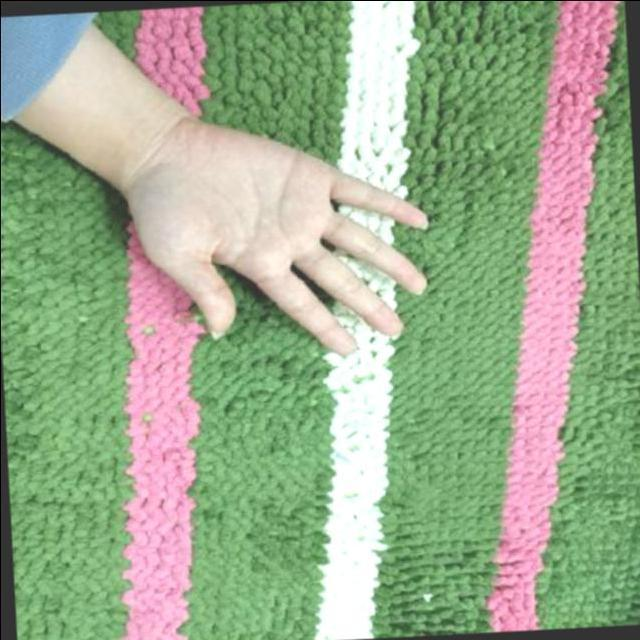hand: (100, 89, 462, 384)
